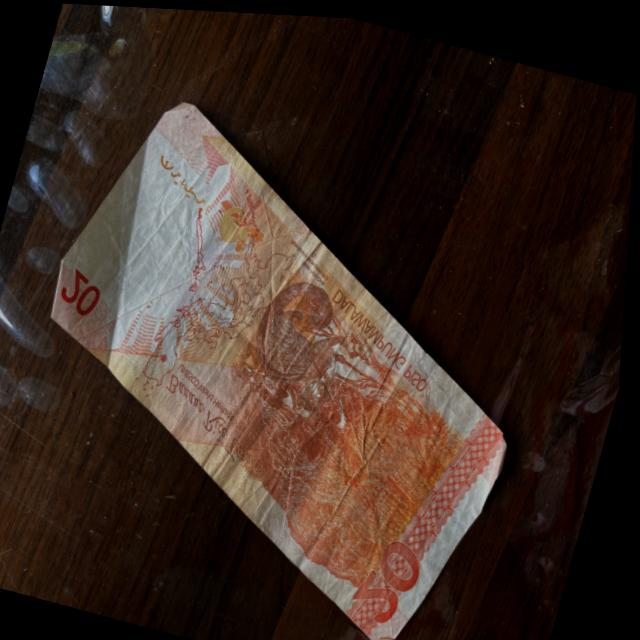20_civet: (241, 260, 369, 407)
20_civet_watermark: (212, 188, 263, 256)
